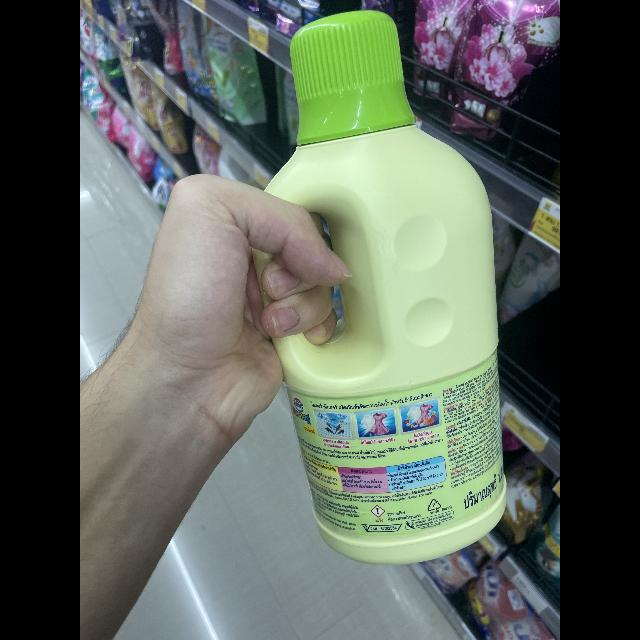chemical_plastic_bottle: (246, 8, 524, 568)
